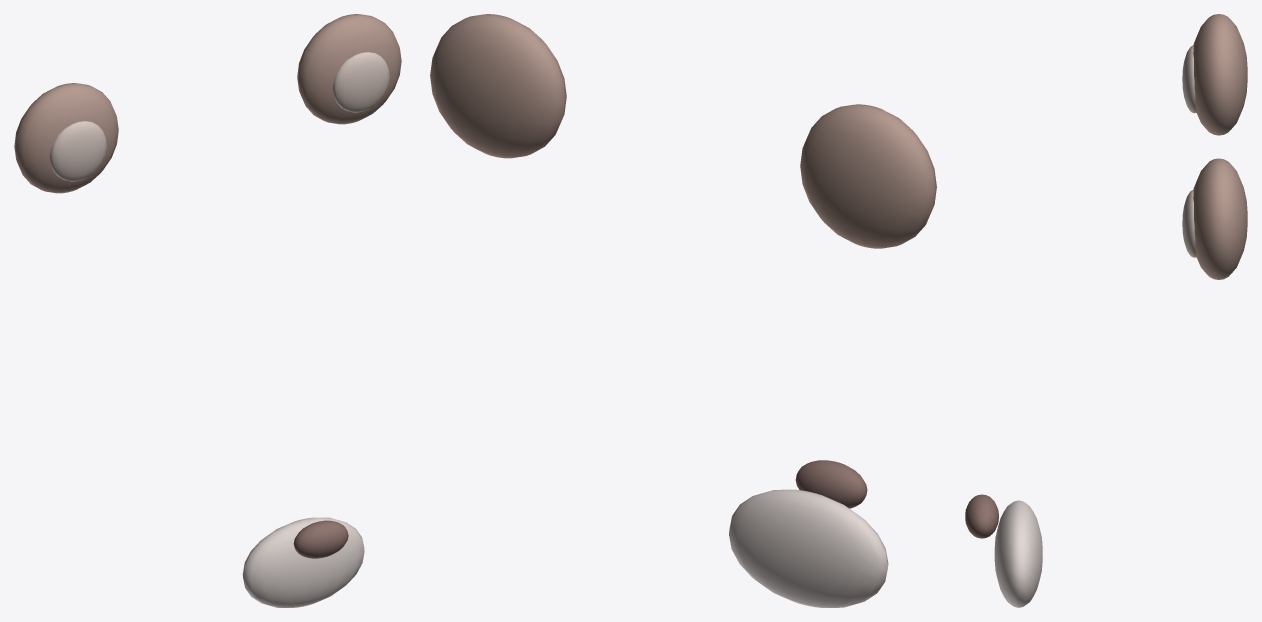
File: bear.glb
3 views of the same model, side by side, from view 1: azimuth 30°, elevation 25°; view 2: azimuth 150°, elevation 25°; view 3: azimuth 270°, elevation 25° (orthographic). The views are drawn at different scales.
Visible parts, largest first — view 1: ears, muzzle, ears_inner, nose; view 2: ears, muzzle, nose; view 3: ears, muzzle, ears_inner, nose.
Boxes of the visible parts, <box> form: ears: <box>14,14,401,193</box>; muzzle: <box>242,517,364,607</box>; ears_inner: <box>50,52,389,181</box>; nose: <box>293,520,348,558</box>; ears: <box>430,14,936,248</box>; muzzle: <box>729,489,888,607</box>; nose: <box>795,460,867,508</box>; ears: <box>1193,14,1247,279</box>; muzzle: <box>994,500,1042,607</box>; ears_inner: <box>1182,45,1196,257</box>; nose: <box>965,494,998,538</box>.
Size of the model in its own units: 1.9 by 2.29 by 1.16.
